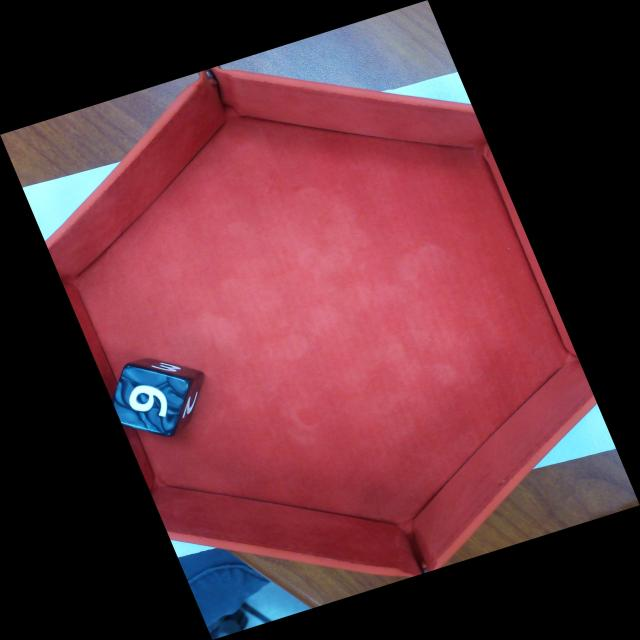dice: (111, 362, 195, 440)
